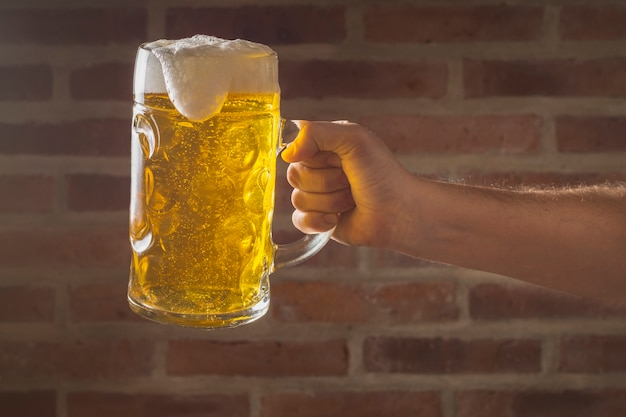alcohol: (128, 36, 351, 329)
